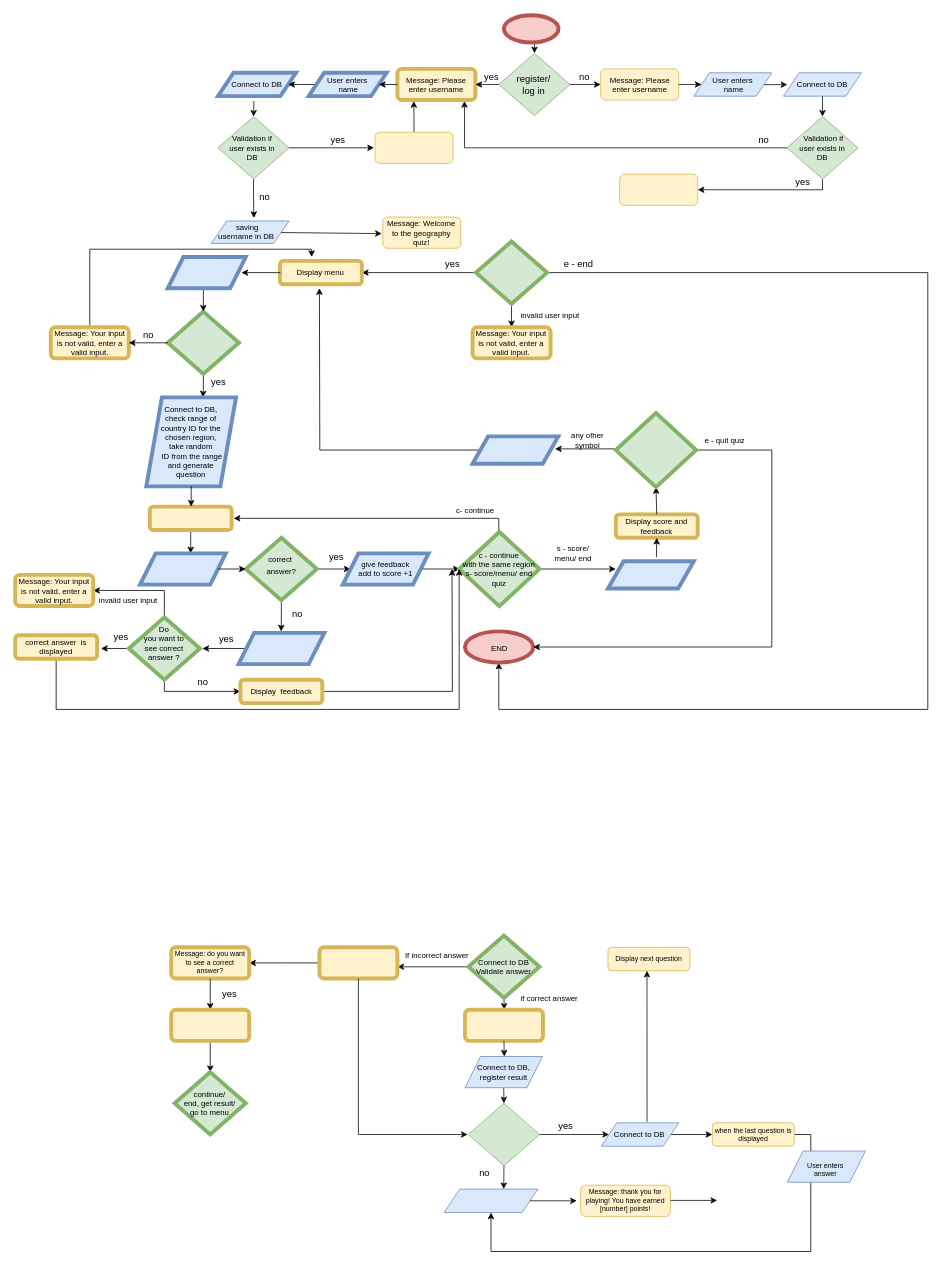
The diagram is 948 pixels wide and 1271 high, and some of its shapes have lost their labels. Here are the shapes that lost their labels. From the top down, the centre of each, then its label:
At (531,28): "START".
At (413,147): "Error message: user name is already taken.".
At (658,189): "Message: Welcome Back!".
At (206,272): "User makes choice: 1, 2, 3, 4, 5".
At (511,272): "take quiz / end quiz q/e".
At (202,342): "correct user input? (1,2,3,4 or 5 ?)".
At (515,449): "reset to 0 previous score".
At (655,450): "e- end quiz any other symbol: back to menu".
At (190,518): "question is displayed".
At (182,568): "User types answer".
At (650,574): "count score".
At (281,648): "give feedback add to score 0".
At (358,962): "Message: the answer is wrong, you get 0 points.".
At (210,1024): "Message: the correct answer is displayed".
At (504,1024): "Message: That's correct. You get 1 point".
At (504,1134): "Wanna Try next question or end quiz?".
At (490,1200): "Connect to DB, sum all points".
